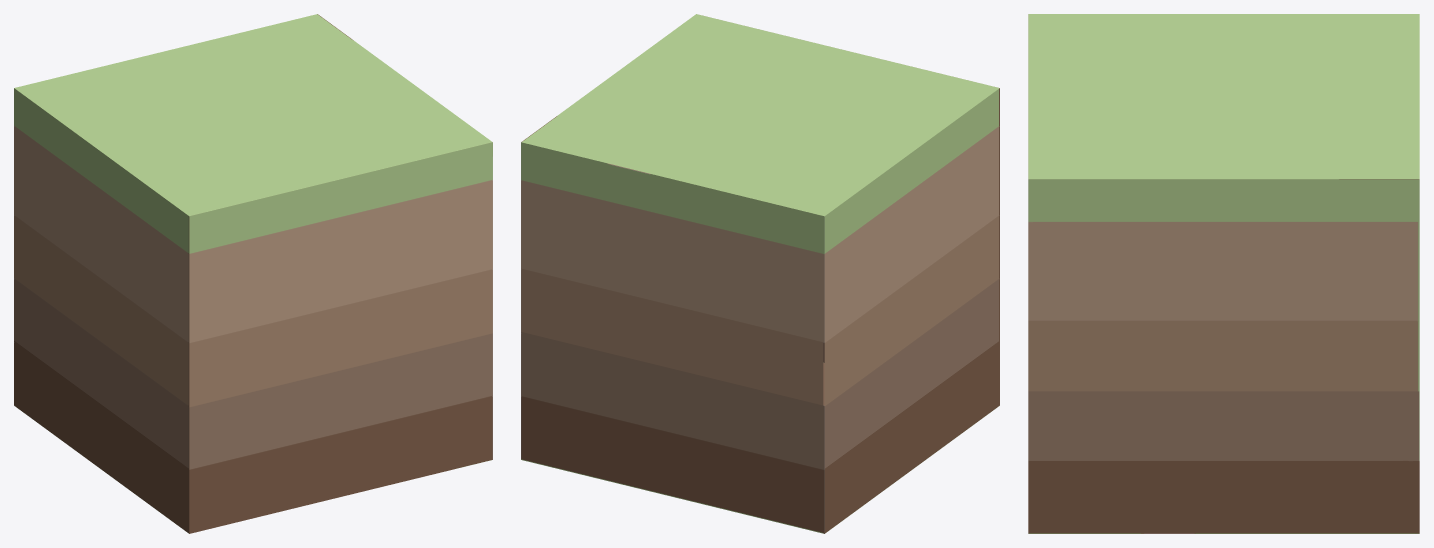
Rendered from grass_cube.fbx.
The picture shows the model from 3 angles, left to right: view 1: azimuth 30°, elevation 25°; view 2: azimuth 150°, elevation 25°; view 3: azimuth 270°, elevation 25°; orthographic projection. The views are drawn at different scales.
Parts seen in each view (by area): view 1: Cube; view 2: Cube; view 3: Cube.
Part boxes in pixels (bbox=[...]): Cube: bbox=[14, 14, 492, 533]; Cube: bbox=[521, 14, 999, 533]; Cube: bbox=[1028, 14, 1419, 533].
Size of the model in its own units: 200 by 200 by 200.
